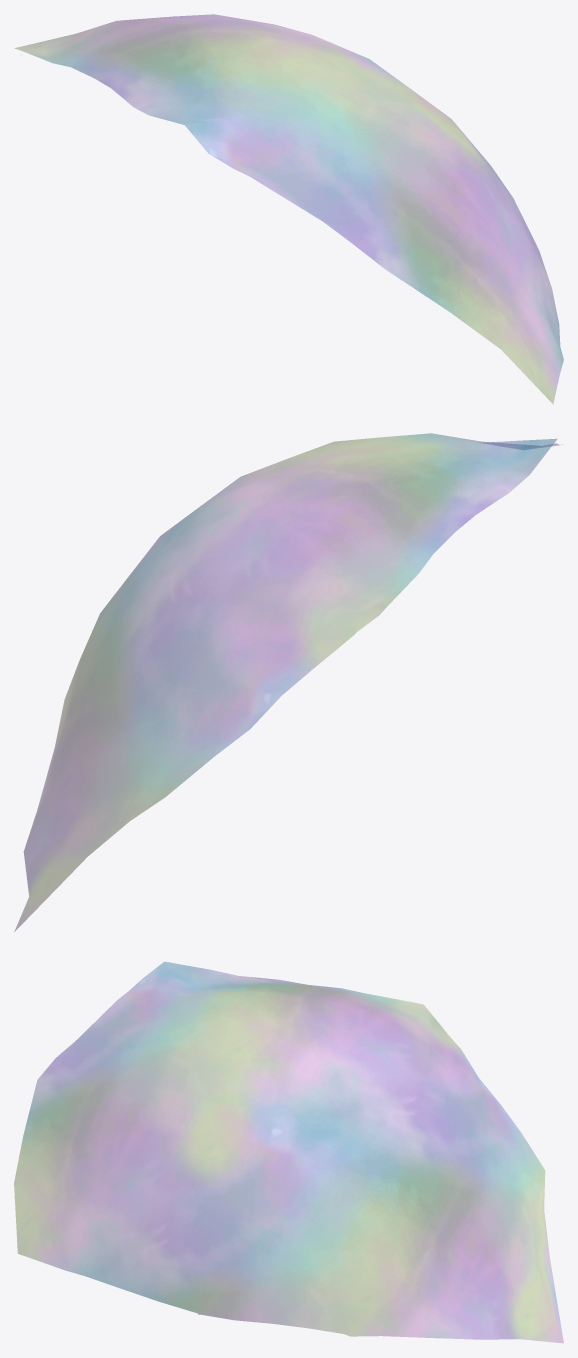
Rendered from bubble_techno1.glb.
The picture shows the model from 3 angles, top to bottom: view 1: azimuth 30°, elevation 25°; view 2: azimuth 150°, elevation 25°; view 3: azimuth 270°, elevation 25°; orthographic projection. The views are drawn at different scales.
Visible parts, largest first — view 1: bubble.png__; view 2: bubble.png__; view 3: bubble.png__.
Boxes of the visible parts, x1,y1,x2,y2 form: bubble.png__: (15, 14, 563, 403); bubble.png__: (14, 433, 562, 931); bubble.png__: (14, 961, 563, 1343).
Bounding box in the file's own units: 8.26 × 7.51 × 13.28.
1 material, 1 textured.
